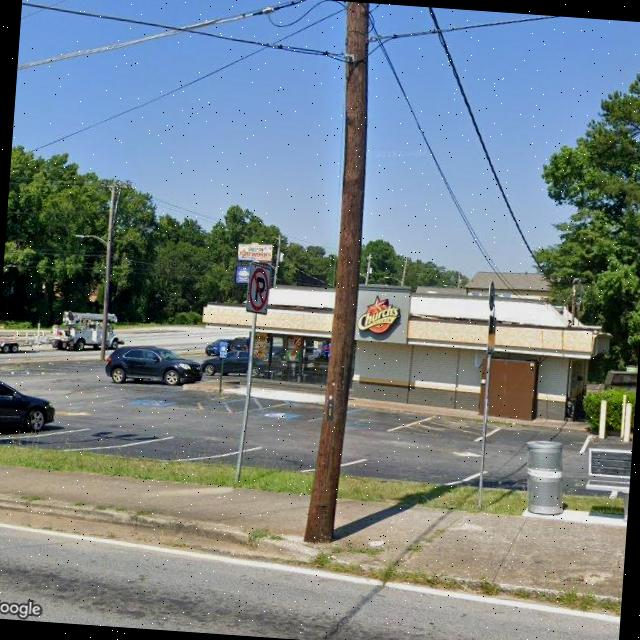seating: (583, 444, 632, 522)
trash_can: (524, 440, 566, 516)
